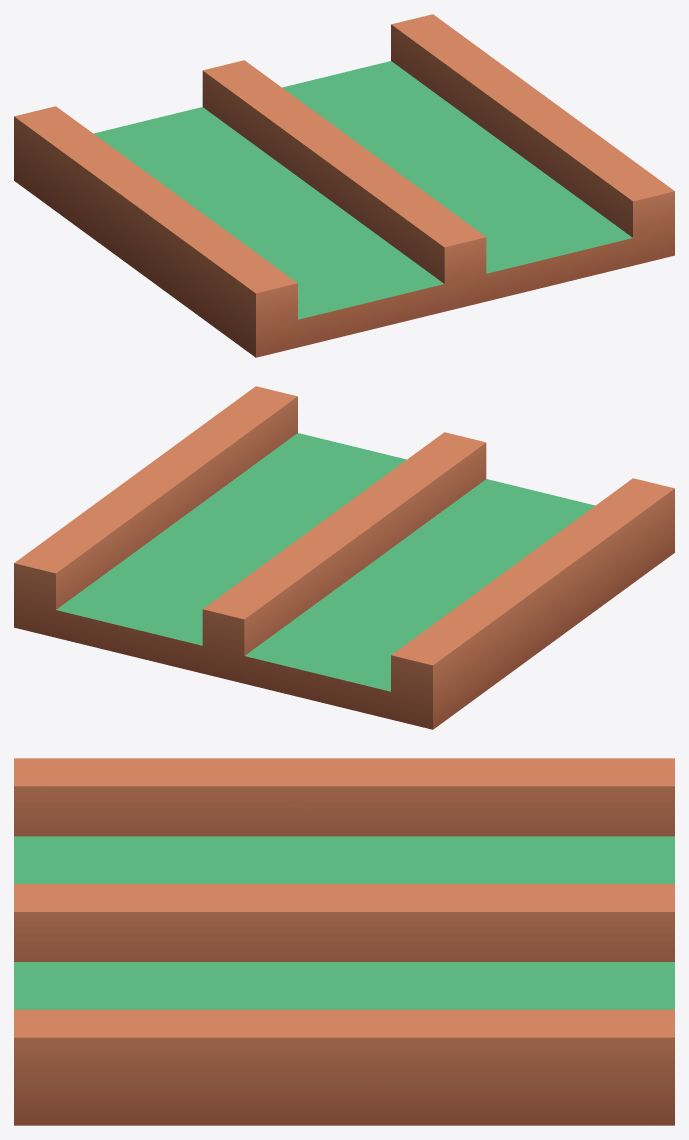
Rendered from split.glb.
3 views of the same model, one above another, from view 1: azimuth 30°, elevation 25°; view 2: azimuth 150°, elevation 25°; view 3: azimuth 270°, elevation 25° (orthographic). The views are drawn at different scales.
Parts seen in each view (by area): view 1: split; view 2: split; view 3: split.
Part boxes in pixels (x1,y1,x2,y2): split: [14, 14, 674, 357]; split: [14, 386, 674, 729]; split: [14, 758, 674, 1125].
Size of the model in its own units: 0.9999 by 0.1467 by 0.9999.
1 material, 1 textured.
